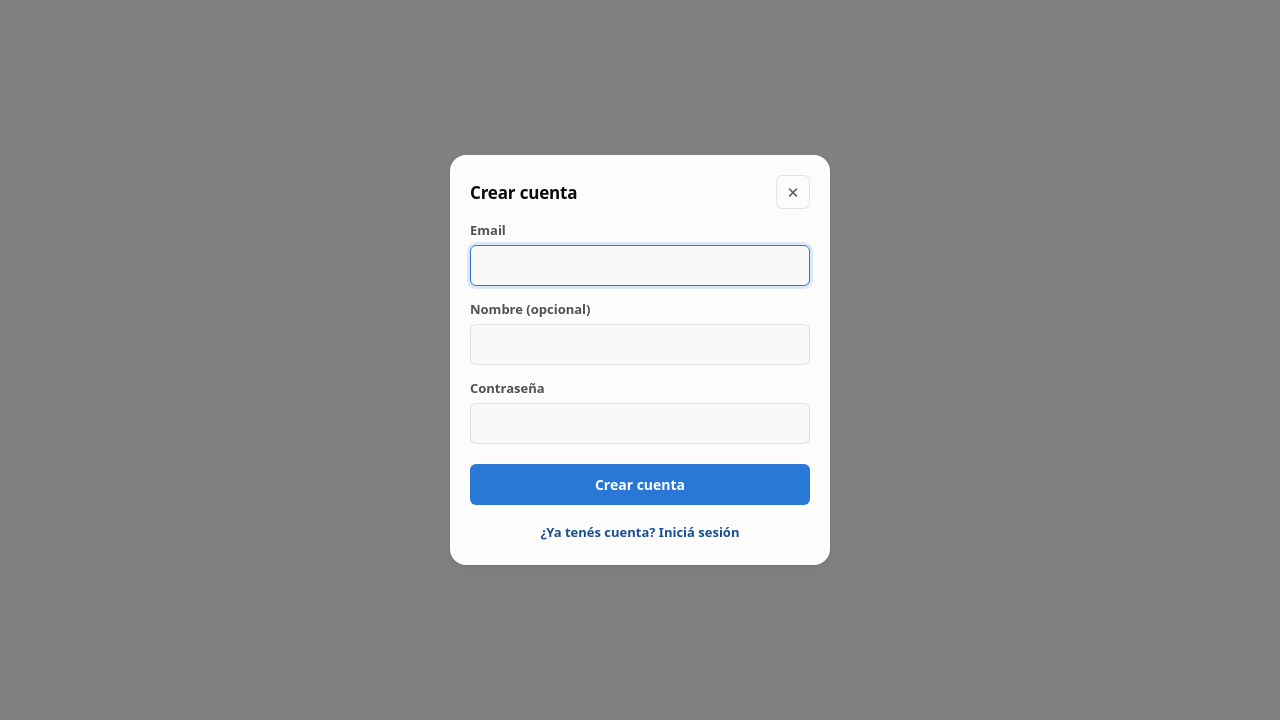
Test: AuthModal › un fallo de red en registro muestra el mensaje genérico TRADUCIDO, no un texto en inglés hardcodeado
The width and height of the screenshot is (1280, 720).
Type "nuevo@example.com" into the field labelled "Email" at (640, 266), box x1=470 y1=245 x2=810 y2=286
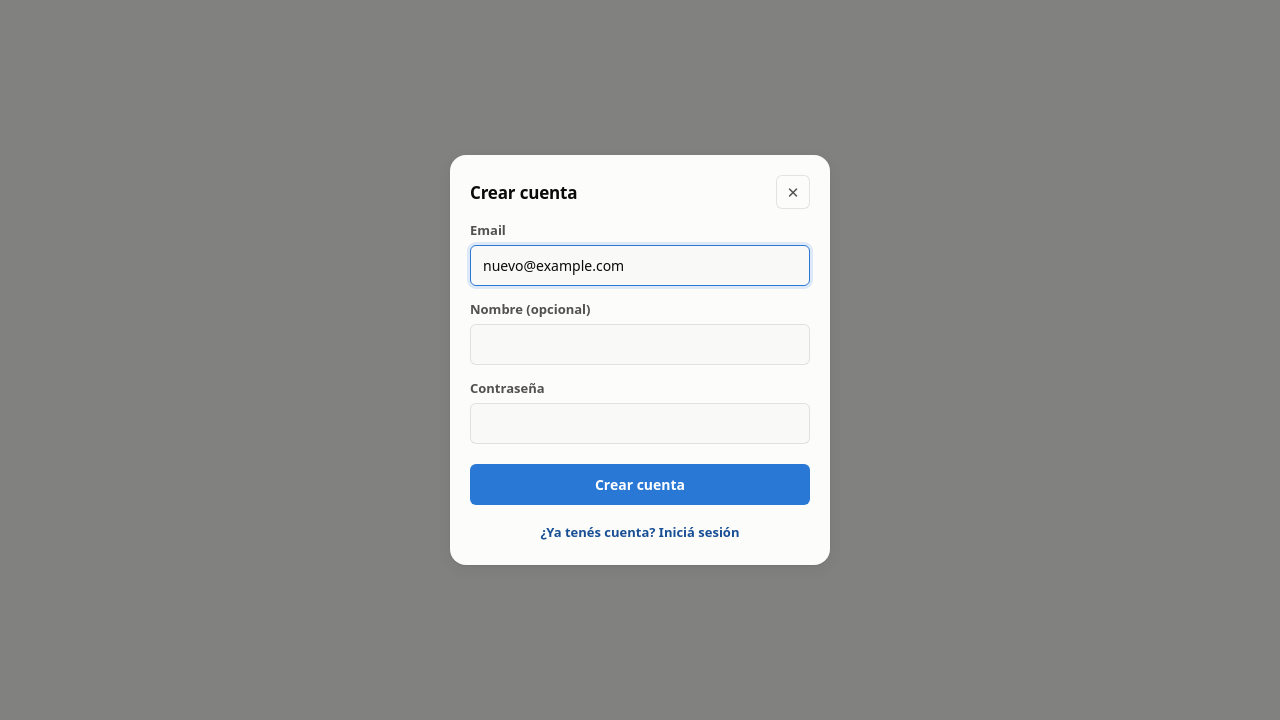
Type "supersecreta123" into the password field labelled "Contraseña" at (640, 424), box x1=470 y1=403 x2=810 y2=444
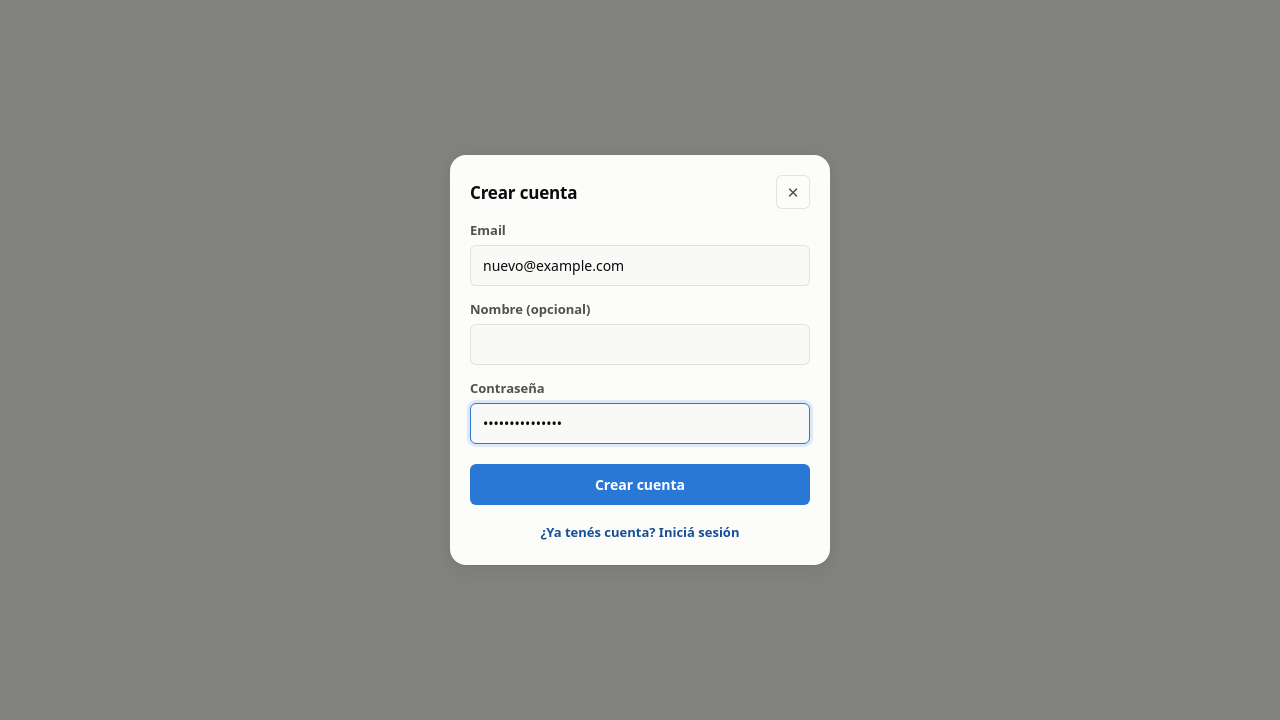
Click the button "Crear cuenta" at (640, 484), box x1=470 y1=464 x2=810 y2=505
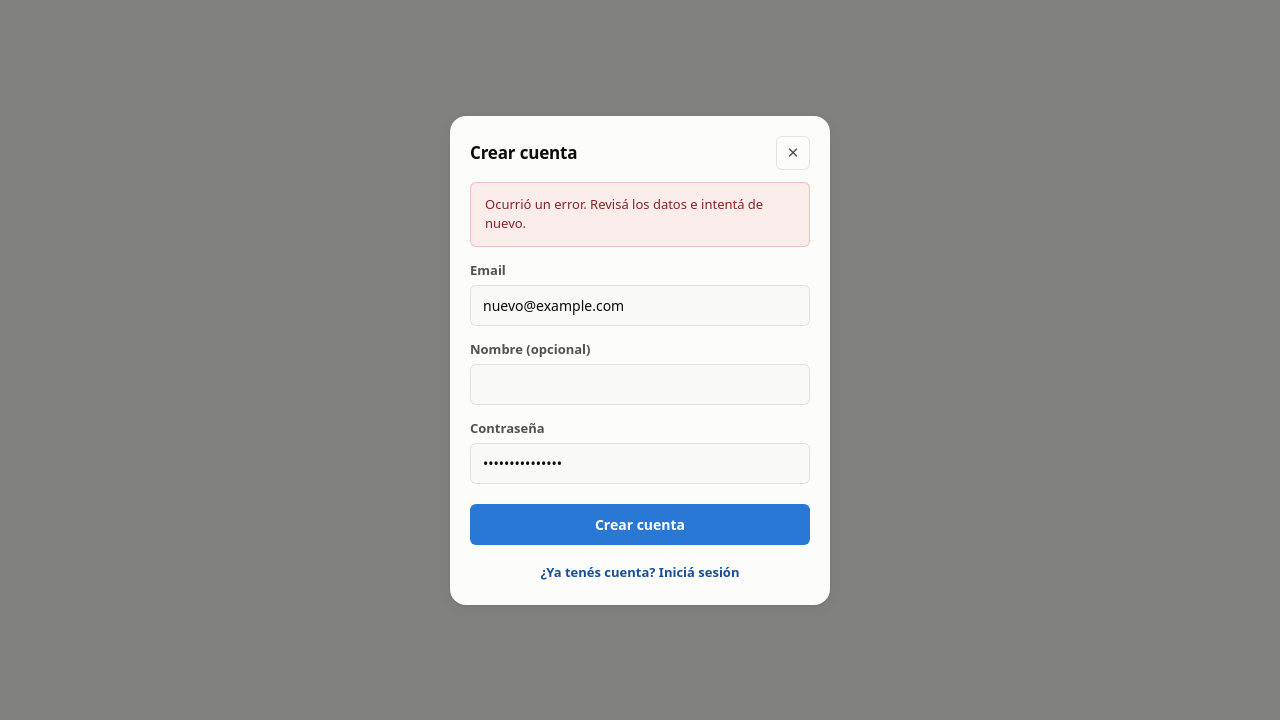
Expected: the text "Ocurrió un error. Revisá los datos e intentá de nuevo." is shown, x1=470 y1=182 x2=810 y2=246
